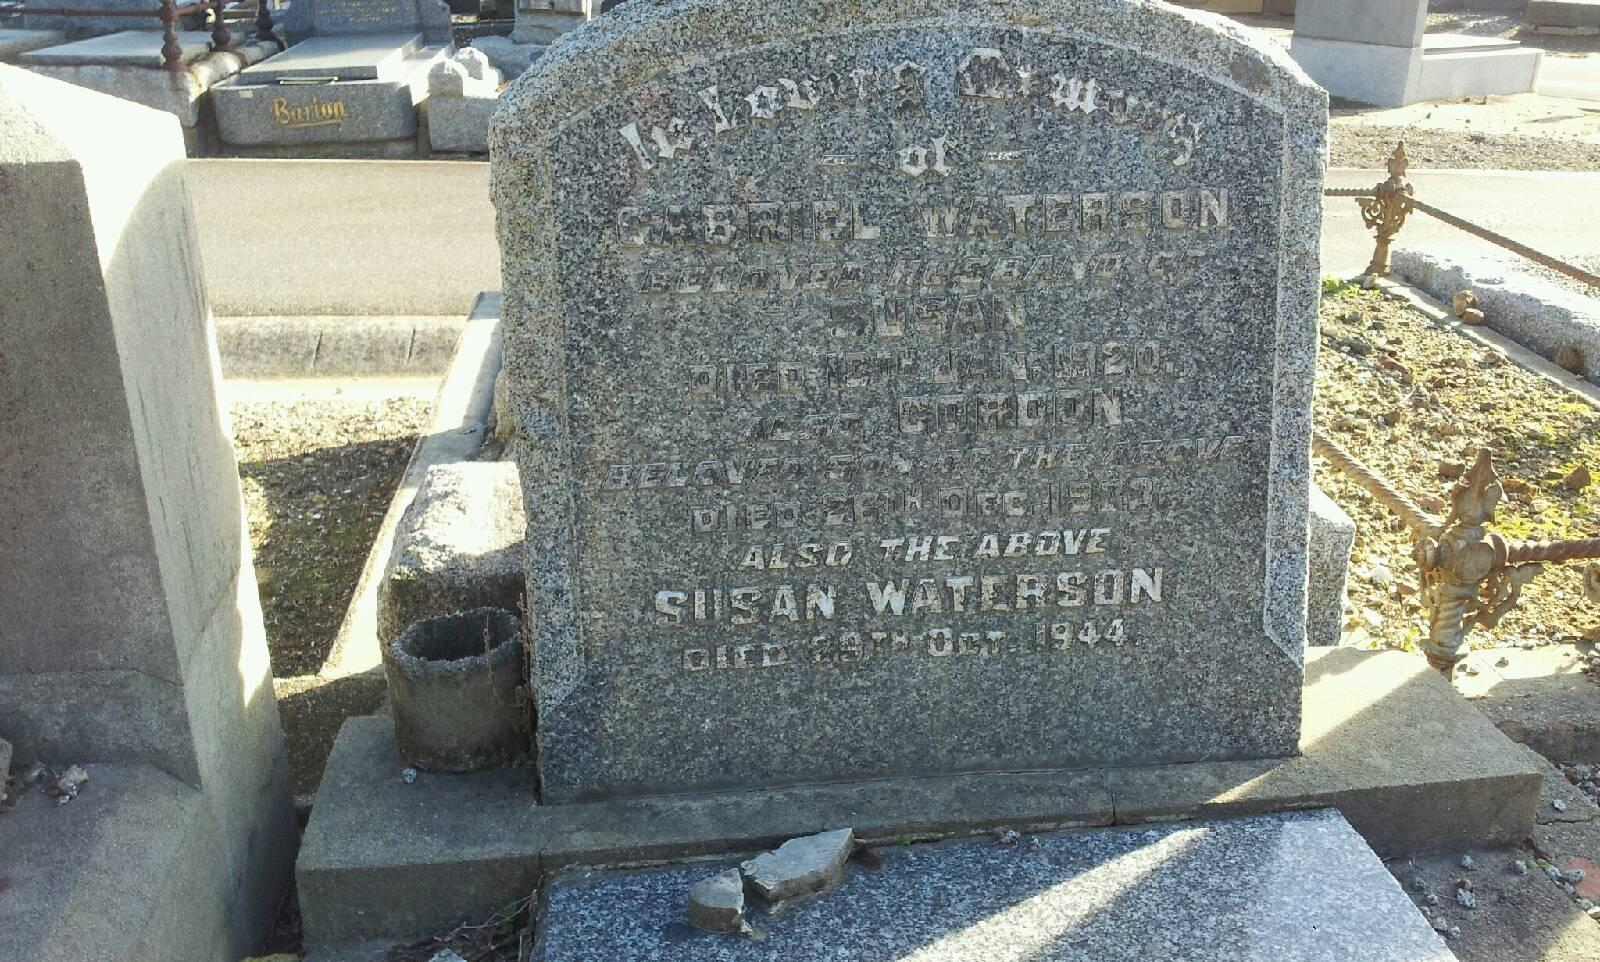upright: (287, 1, 1527, 913)
